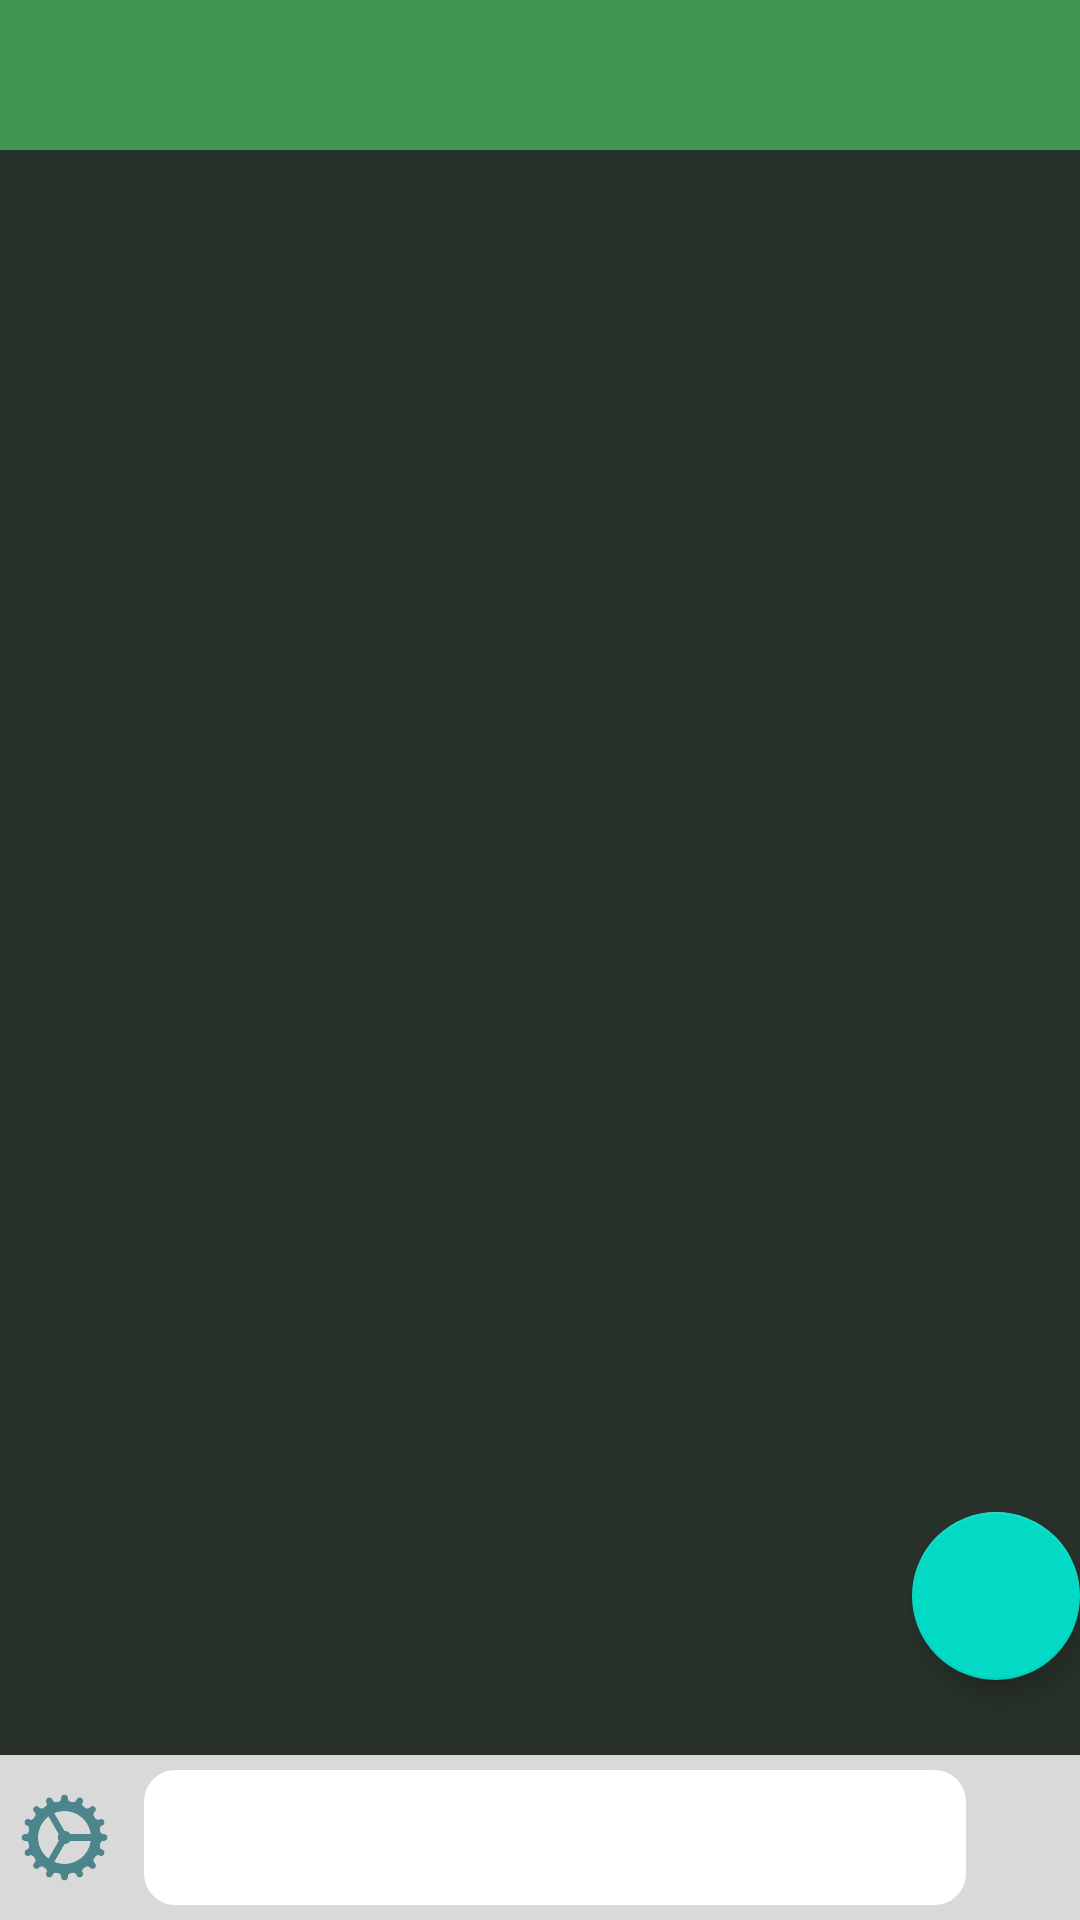

Where to tap for icons on this 1080px x 1920px app screen, as point (x, y):
settings: point (64, 1837)
